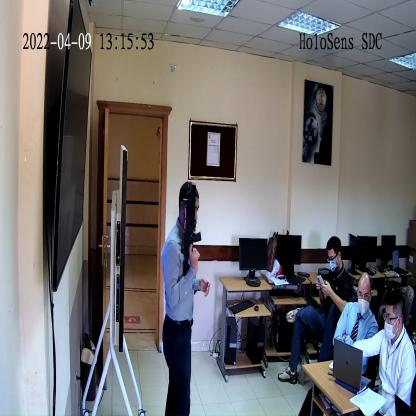handgun: (181, 184, 201, 278)
